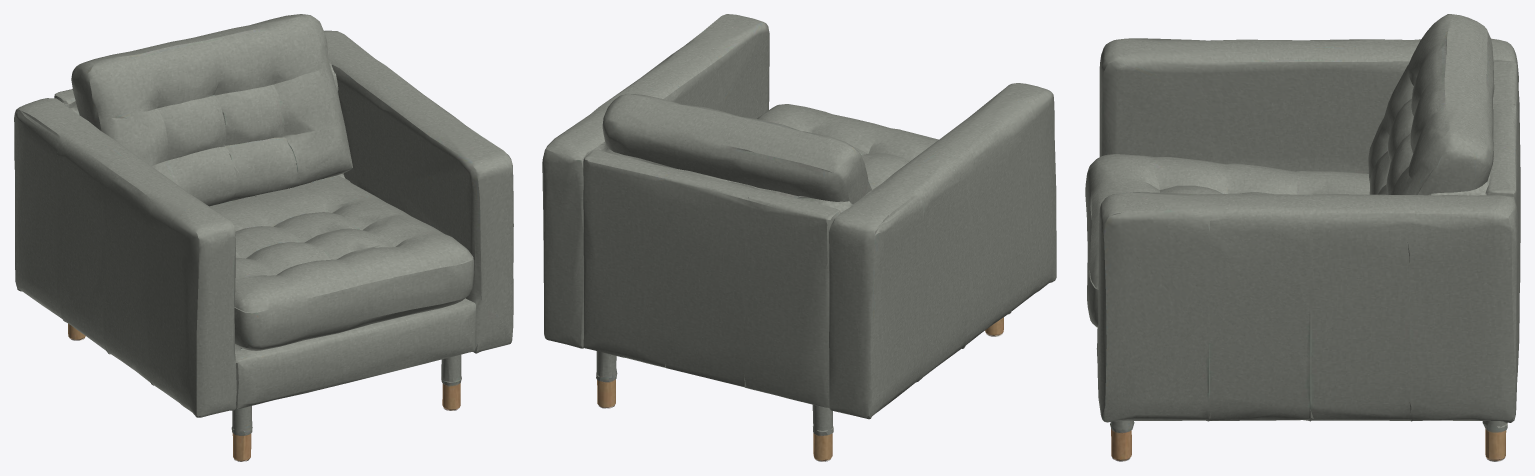
File: armchair-18.glb
3 views of the same model, side by side, from view 1: azimuth 30°, elevation 25°; view 2: azimuth 150°, elevation 25°; view 3: azimuth 270°, elevation 25° (orthographic). The views are drawn at different scales.
Parts seen in each view (by area): view 1: ProcessedMeshNode; view 2: ProcessedMeshNode; view 3: ProcessedMeshNode.
Part boxes in pixels (<box>): ProcessedMeshNode: <box>14,14,513,461</box>; ProcessedMeshNode: <box>542,14,1056,461</box>; ProcessedMeshNode: <box>1085,14,1520,461</box>.
Bounding box in the file's own units: 0.9028 × 0.7645 × 0.9168.
1 material, 1 textured.
